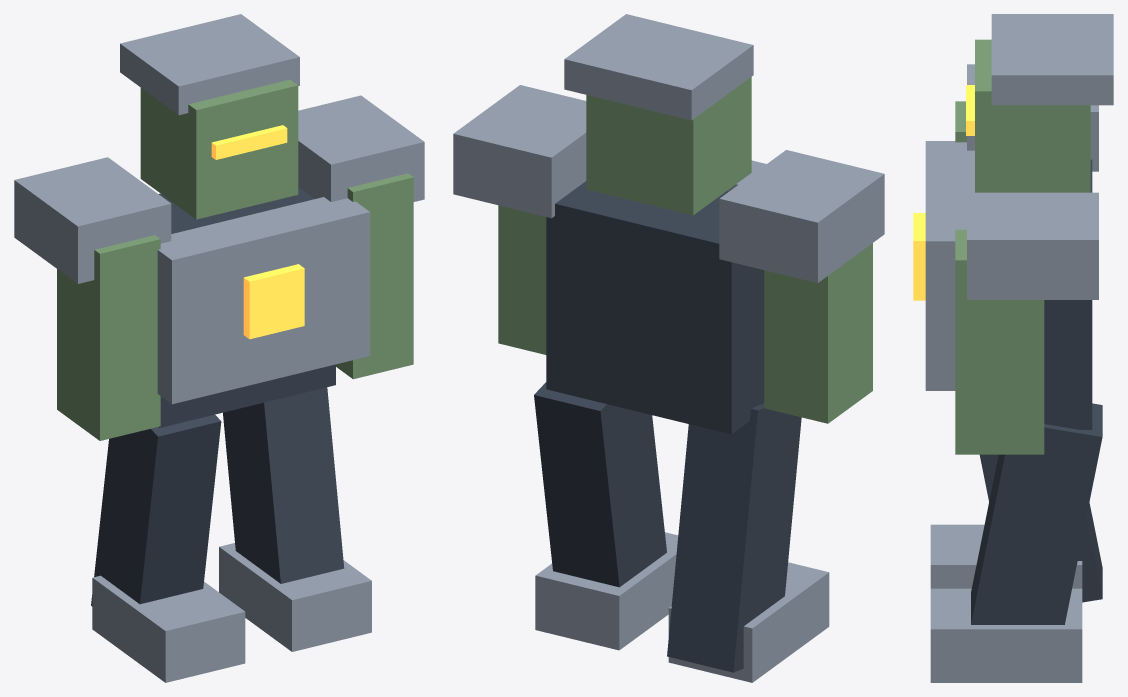
The model's file is armored-infected.glb.
3 renders of one model, left to right at view 1: azimuth 30°, elevation 25°; view 2: azimuth 150°, elevation 25°; view 3: azimuth 270°, elevation 25°, orthographic. The views are drawn at different scales.
Visible parts, largest first — view 1: ChestPlate, Leg.001, Leg, Arm, InfectedHead, Shoulder, BrokenHelmet, Boot, Shoulder.001, Boot.001, Arm.001, Torso (+2 smaller); view 2: Torso, Leg, Leg.001, Shoulder, InfectedHead, Arm, Shoulder.001, BrokenHelmet, Boot.001, Arm.001, Boot; view 3: Leg.001, Arm.001, Shoulder.001, InfectedHead, BrokenHelmet, Boot.001, ChestPlate, Torso, Boot, Leg, HazardCore, Shoulder (+2 smaller).
Boxes of the visible parts, x1=… form: ChestPlate: x1=157, y1=197, x2=370, y2=404; Leg.001: x1=223, y1=387, x2=344, y2=583; Leg: x1=91, y1=414, x2=221, y2=606; Arm: x1=57, y1=235, x2=160, y2=440; InfectedHead: x1=140, y1=79, x2=298, y2=219; Shoulder: x1=14, y1=157, x2=171, y2=283; BrokenHelmet: x1=120, y1=14, x2=299, y2=115; Boot: x1=92, y1=575, x2=245, y2=682; Shoulder.001: x1=298, y1=95, x2=424, y2=201; Boot.001: x1=219, y1=543, x2=371, y2=651; Arm.001: x1=336, y1=173, x2=413, y2=379; Torso: x1=158, y1=187, x2=335, y2=427; Torso: x1=546, y1=181, x2=764, y2=434; Leg: x1=667, y1=403, x2=801, y2=672; Leg.001: x1=534, y1=382, x2=666, y2=587; Shoulder: x1=719, y1=150, x2=884, y2=283; InfectedHead: x1=586, y1=77, x2=751, y2=215; Arm: x1=764, y1=243, x2=872, y2=423; Shoulder.001: x1=453, y1=85, x2=586, y2=218; BrokenHelmet: x1=564, y1=14, x2=753, y2=120; Boot.001: x1=535, y1=532, x2=678, y2=650; Arm.001: x1=498, y1=205, x2=546, y2=354; Boot: x1=668, y1=562, x2=829, y2=682; Leg.001: x1=971, y1=403, x2=1102, y2=624; Arm.001: x1=955, y1=229, x2=1044, y2=454; Shoulder.001: x1=967, y1=192, x2=1098, y2=299; InfectedHead: x1=975, y1=39, x2=1090, y2=192; BrokenHelmet: x1=991, y1=14, x2=1113, y2=105; Boot.001: x1=930, y1=588, x2=1082, y2=682; ChestPlate: x1=925, y1=141, x2=974, y2=390; Torso: x1=1044, y1=159, x2=1092, y2=429; Boot: x1=930, y1=524, x2=1082, y2=588; Leg: x1=979, y1=454, x2=1102, y2=602; HazardCore: x1=913, y1=213, x2=925, y2=300; Shoulder: x1=967, y1=64, x2=1098, y2=171.
Size of the model in its own units: 1.26 by 1.96 by 0.6075.
